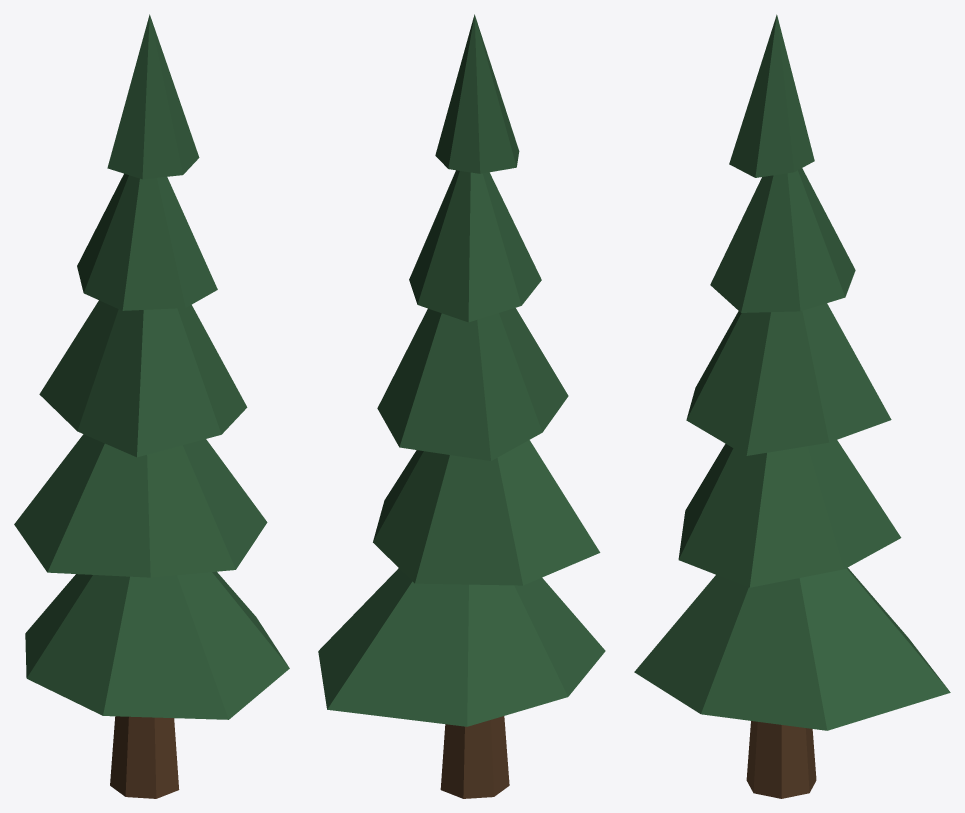
File: forest_conifer_tall_v31.glb
The picture shows the model from 3 angles, left to right: view 1: azimuth 30°, elevation 25°; view 2: azimuth 150°, elevation 25°; view 3: azimuth 270°, elevation 25°; orthographic projection.
Visible parts, largest first — view 1: forest_conifer_tall; view 2: forest_conifer_tall; view 3: forest_conifer_tall.
Boxes of the visible parts, x1,y1,x2,y2 form: forest_conifer_tall: (14, 14, 289, 798); forest_conifer_tall: (318, 14, 605, 798); forest_conifer_tall: (634, 14, 950, 798).
Size of the model in its own units: 1.03 by 3.08 by 1.15.
